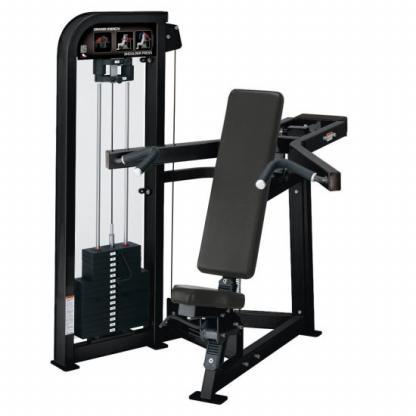shoulder press machine: (54, 12, 347, 408)
